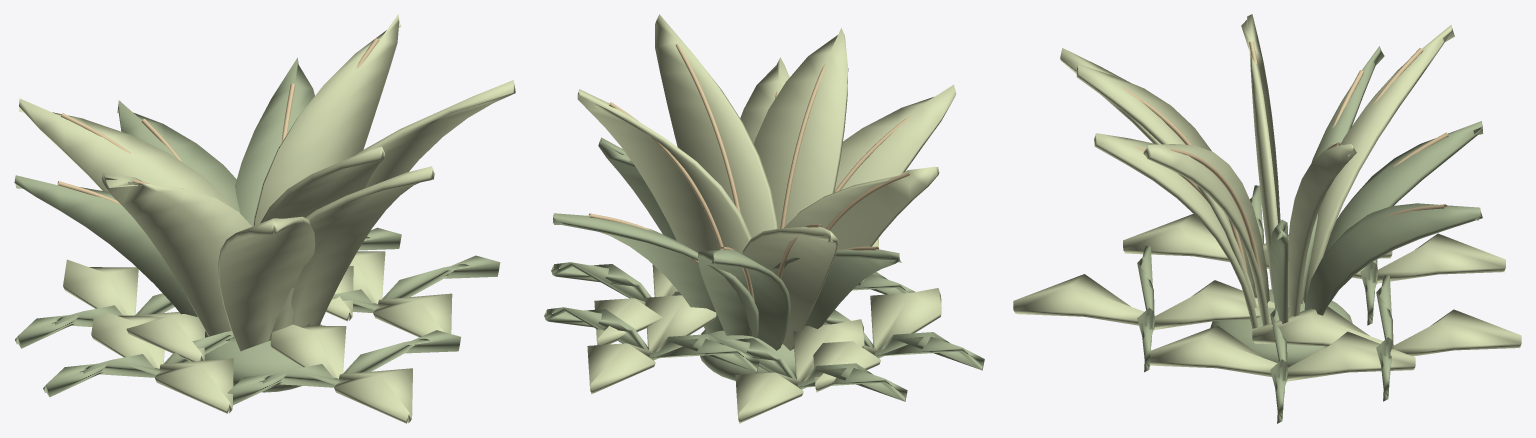
Rendered from bio_mist_leaf_20_near.glb.
3 views of the same model, side by side, from view 1: azimuth 30°, elevation 25°; view 2: azimuth 150°, elevation 25°; view 3: azimuth 270°, elevation 25° (orthographic). The views are drawn at different scales.
Parts seen in each view (by area): view 1: Cupped condensate leaf.008, Cupped condensate leaf.004, Cupped condensate leaf.007, Cupped condensate leaf.010, Cupped condensate leaf.001, Cupped condensate leaf.009, Low buttress leaf.009, Low buttress leaf.005, Low buttress leaf.017, Cupped condensate leaf.003, Cupped condensate leaf.002, Cupped condensate leaf.005 (+9 smaller); view 2: Cupped condensate leaf.002, Cupped condensate leaf.005, Cupped condensate leaf.008, Cupped condensate leaf.007, Cupped condensate leaf.004, Cupped condensate leaf.006, Cupped condensate leaf.003, Cupped condensate leaf.001, Low buttress leaf.013, Low buttress leaf.017, Low buttress leaf.005, Low buttress leaf.012 (+14 smaller); view 3: Low buttress leaf.001, Cupped condensate leaf.003, Low buttress leaf.009, Low buttress leaf.013, Cupped condensate leaf.001, Cupped condensate leaf.005, Cupped condensate leaf.006, Cupped condensate leaf.002, Cupped condensate leaf.010, Cupped condensate leaf.008, Cupped condensate leaf.004, Low buttress leaf.005 (+11 smaller).
Boxes of the visible parts, <box> form: Cupped condensate leaf.008: <box>253,14,401,225</box>; Cupped condensate leaf.004: <box>101,172,251,348</box>; Cupped condensate leaf.007: <box>218,216,315,351</box>; Cupped condensate leaf.010: <box>291,166,434,326</box>; Cupped condensate leaf.001: <box>19,98,233,208</box>; Cupped condensate leaf.009: <box>14,175,208,337</box>; Low buttress leaf.009: <box>270,324,412,423</box>; Low buttress leaf.005: <box>63,259,205,361</box>; Low buttress leaf.017: <box>91,308,233,413</box>; Cupped condensate leaf.003: <box>235,57,314,226</box>; Cupped condensate leaf.002: <box>260,146,385,340</box>; Cupped condensate leaf.005: <box>355,80,515,188</box>; Cupped condensate leaf.002: <box>754,28,848,228</box>; Cupped condensate leaf.005: <box>655,14,777,237</box>; Cupped condensate leaf.008: <box>577,89,751,253</box>; Cupped condensate leaf.007: <box>834,84,956,190</box>; Cupped condensate leaf.004: <box>784,166,939,249</box>; Cupped condensate leaf.006: <box>698,249,790,350</box>; Cupped condensate leaf.003: <box>553,213,758,338</box>; Cupped condensate leaf.001: <box>742,226,838,350</box>; Low buttress leaf.013: <box>587,295,716,394</box>; Low buttress leaf.017: <box>813,288,941,392</box>; Low buttress leaf.005: <box>735,319,864,423</box>; Low buttress leaf.012: <box>544,307,759,372</box>; Low buttress leaf.001: <box>1150,325,1415,382</box>; Cupped condensate leaf.003: <box>1304,203,1482,315</box>; Low buttress leaf.009: <box>1013,274,1274,330</box>; Low buttress leaf.013: <box>1252,306,1521,356</box>; Cupped condensate leaf.001: <box>1303,25,1454,303</box>; Cupped condensate leaf.005: <box>1143,144,1269,325</box>; Cupped condensate leaf.006: <box>1323,121,1483,256</box>; Cupped condensate leaf.002: <box>1076,64,1253,320</box>; Cupped condensate leaf.010: <box>1094,133,1258,328</box>; Cupped condensate leaf.008: <box>1288,144,1356,316</box>; Cupped condensate leaf.004: <box>1241,14,1280,293</box>; Low buttress leaf.005: <box>1262,233,1505,284</box>.
Bounding box in the file's own units: 2.22 × 1.38 × 2.09.
